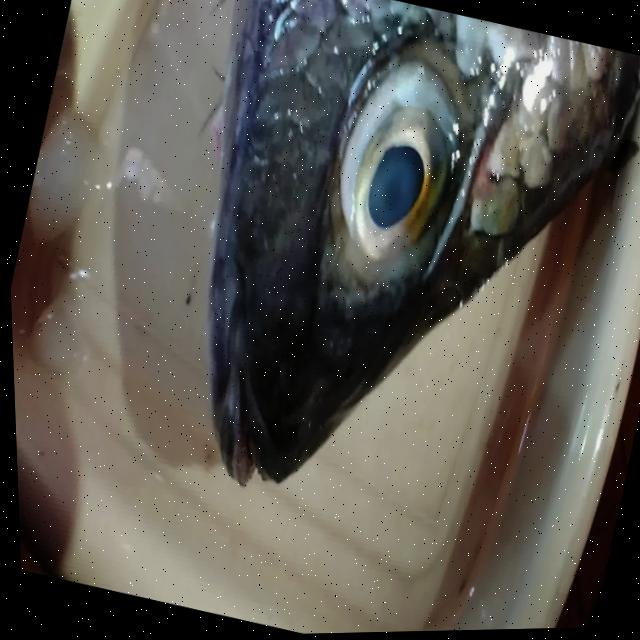Fresh: (280, 27, 493, 298)
